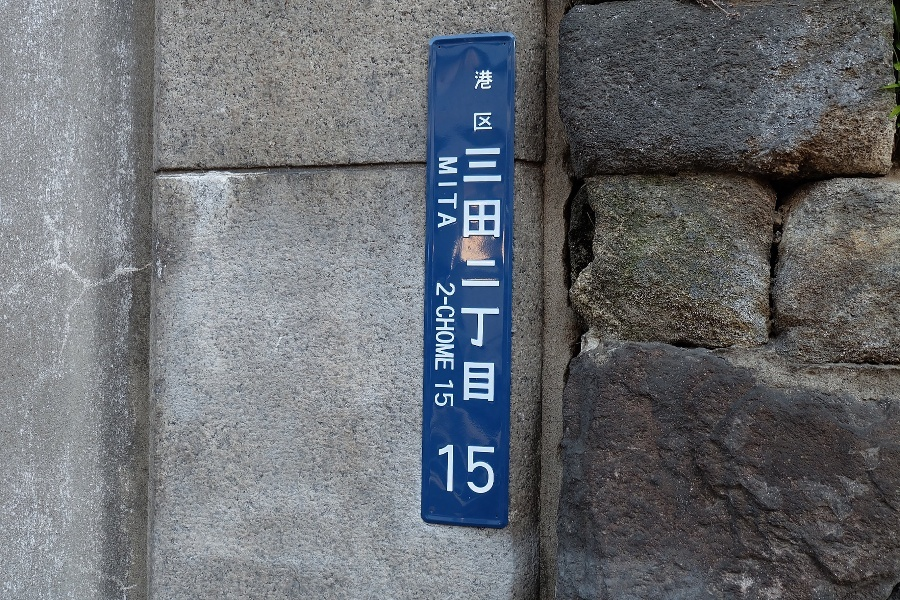text: (465, 67, 480, 407), (481, 67, 496, 407), (497, 67, 504, 407), (434, 283, 448, 410), (460, 67, 464, 407), (449, 283, 457, 410), (436, 155, 448, 235), (449, 155, 460, 235), (449, 441, 464, 499), (465, 441, 480, 499), (481, 441, 496, 499), (437, 441, 448, 499)
